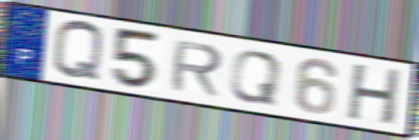5: (107, 25, 169, 92)
6: (292, 57, 340, 116)
H: (344, 62, 405, 128)
Q: (49, 18, 107, 85), (226, 49, 285, 107)
R: (167, 38, 226, 98)
